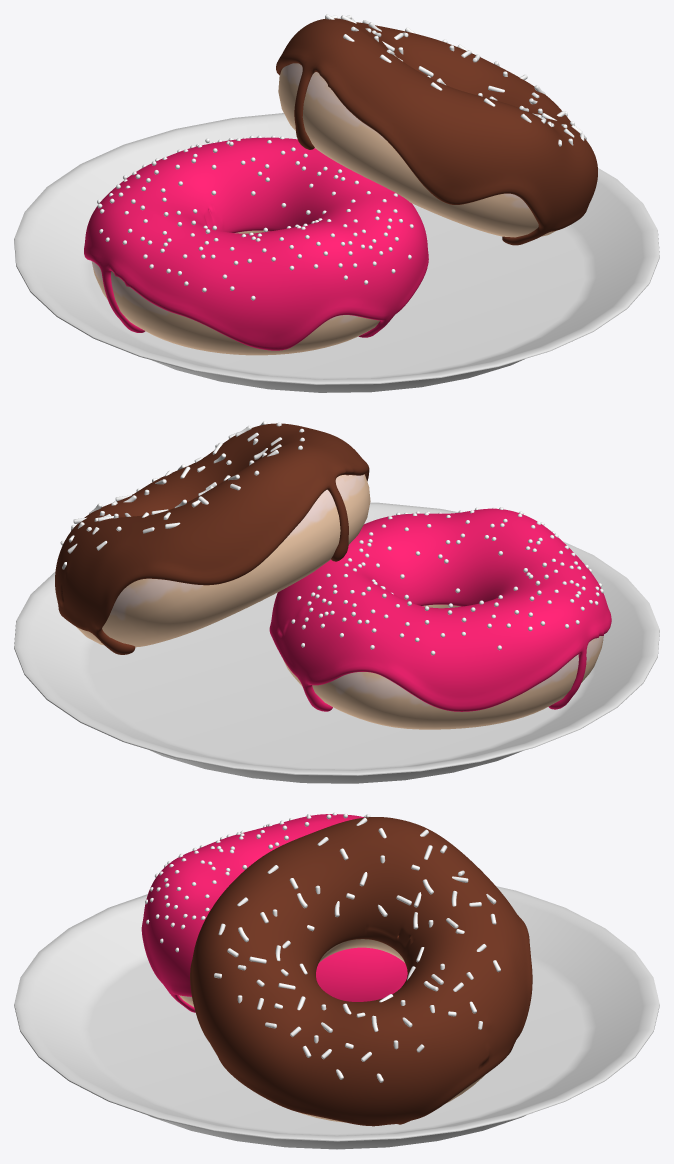
3 renders of one model, top to bottom at view 1: azimuth 30°, elevation 25°; view 2: azimuth 150°, elevation 25°; view 3: azimuth 270°, elevation 25°, orthographic.
Parts seen in each view (by area): view 1: Cylinder.004, Icing, Icing.001, Donuts.001, Donuts; view 2: Cylinder.004, Icing, Icing.001, Donuts.001, Donuts; view 3: Icing.001, Cylinder.004, Icing, Donuts.001.
Part boxes in pixels (x1,y1,x2,y2): Cylinder.004: (14,113,659,392); Icing: (84,137,428,350); Icing.001: (276,18,597,245); Donuts.001: (278,63,555,237); Donuts: (91,230,379,355); Cylinder.004: (14,502,659,783); Icing: (269,508,611,711); Icing.001: (55,423,369,654); Donuts.001: (76,474,370,647); Donuts: (283,604,603,729); Icing.001: (190,817,532,1126); Cylinder.004: (14,886,659,1149); Icing: (141,814,407,1012); Donuts.001: (299,939,484,1122).
Bounding box in the file's own units: 0.2669 × 0.1054 × 0.2669.
Materials: 5 (1 with a texture image).
